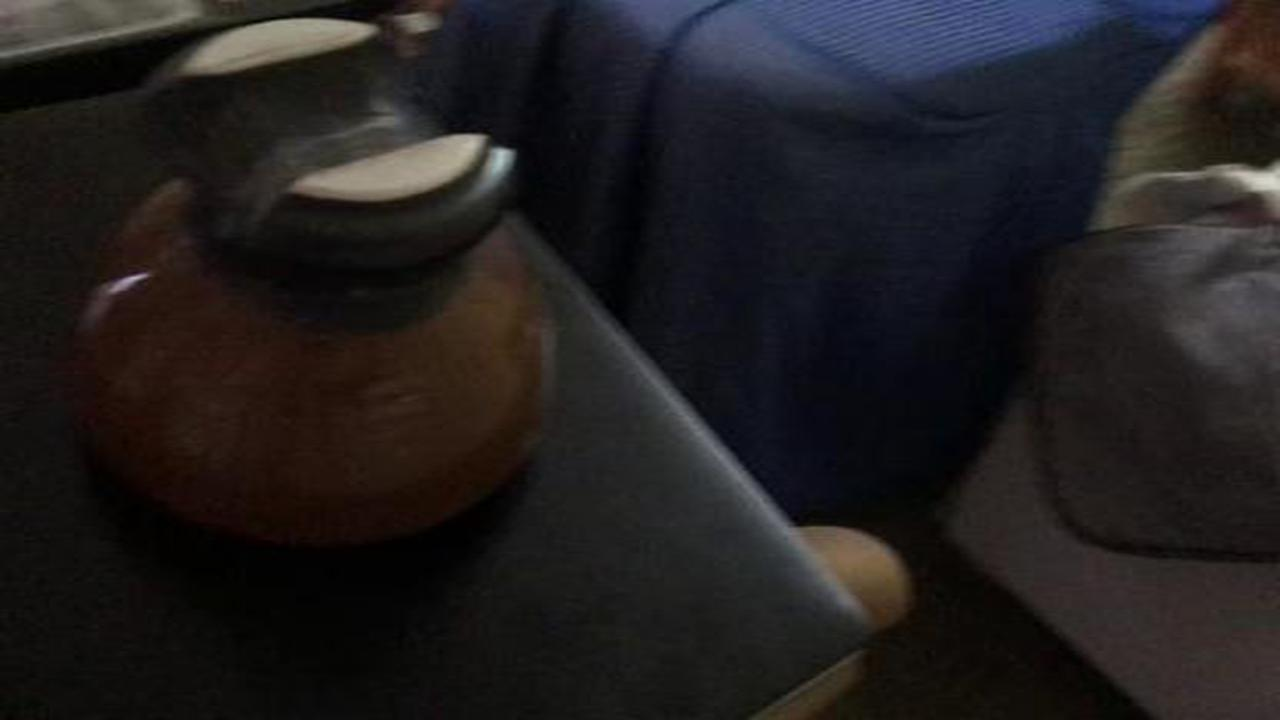insulator_pin: (51, 6, 561, 570)
